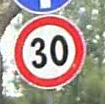limite 30: (12, 14, 85, 90)
